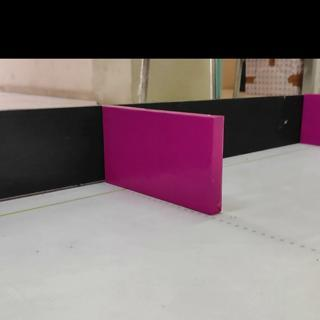xparking: (105, 117, 214, 204), (305, 95, 317, 140)
